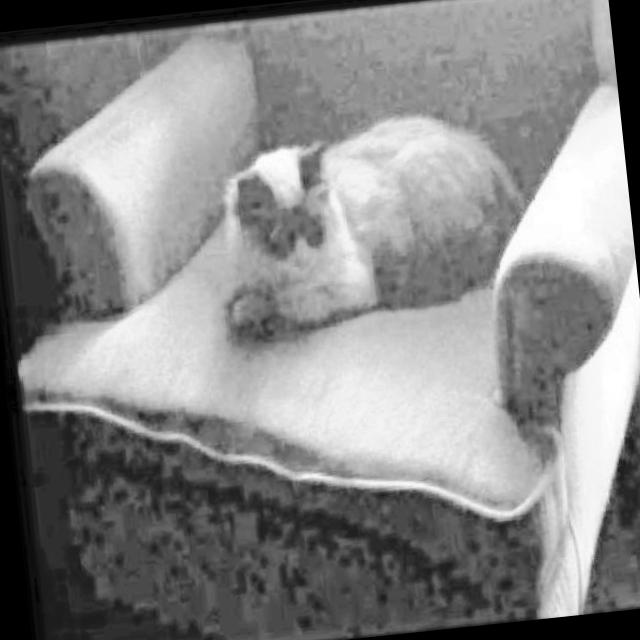Cat: (201, 82, 544, 347)
